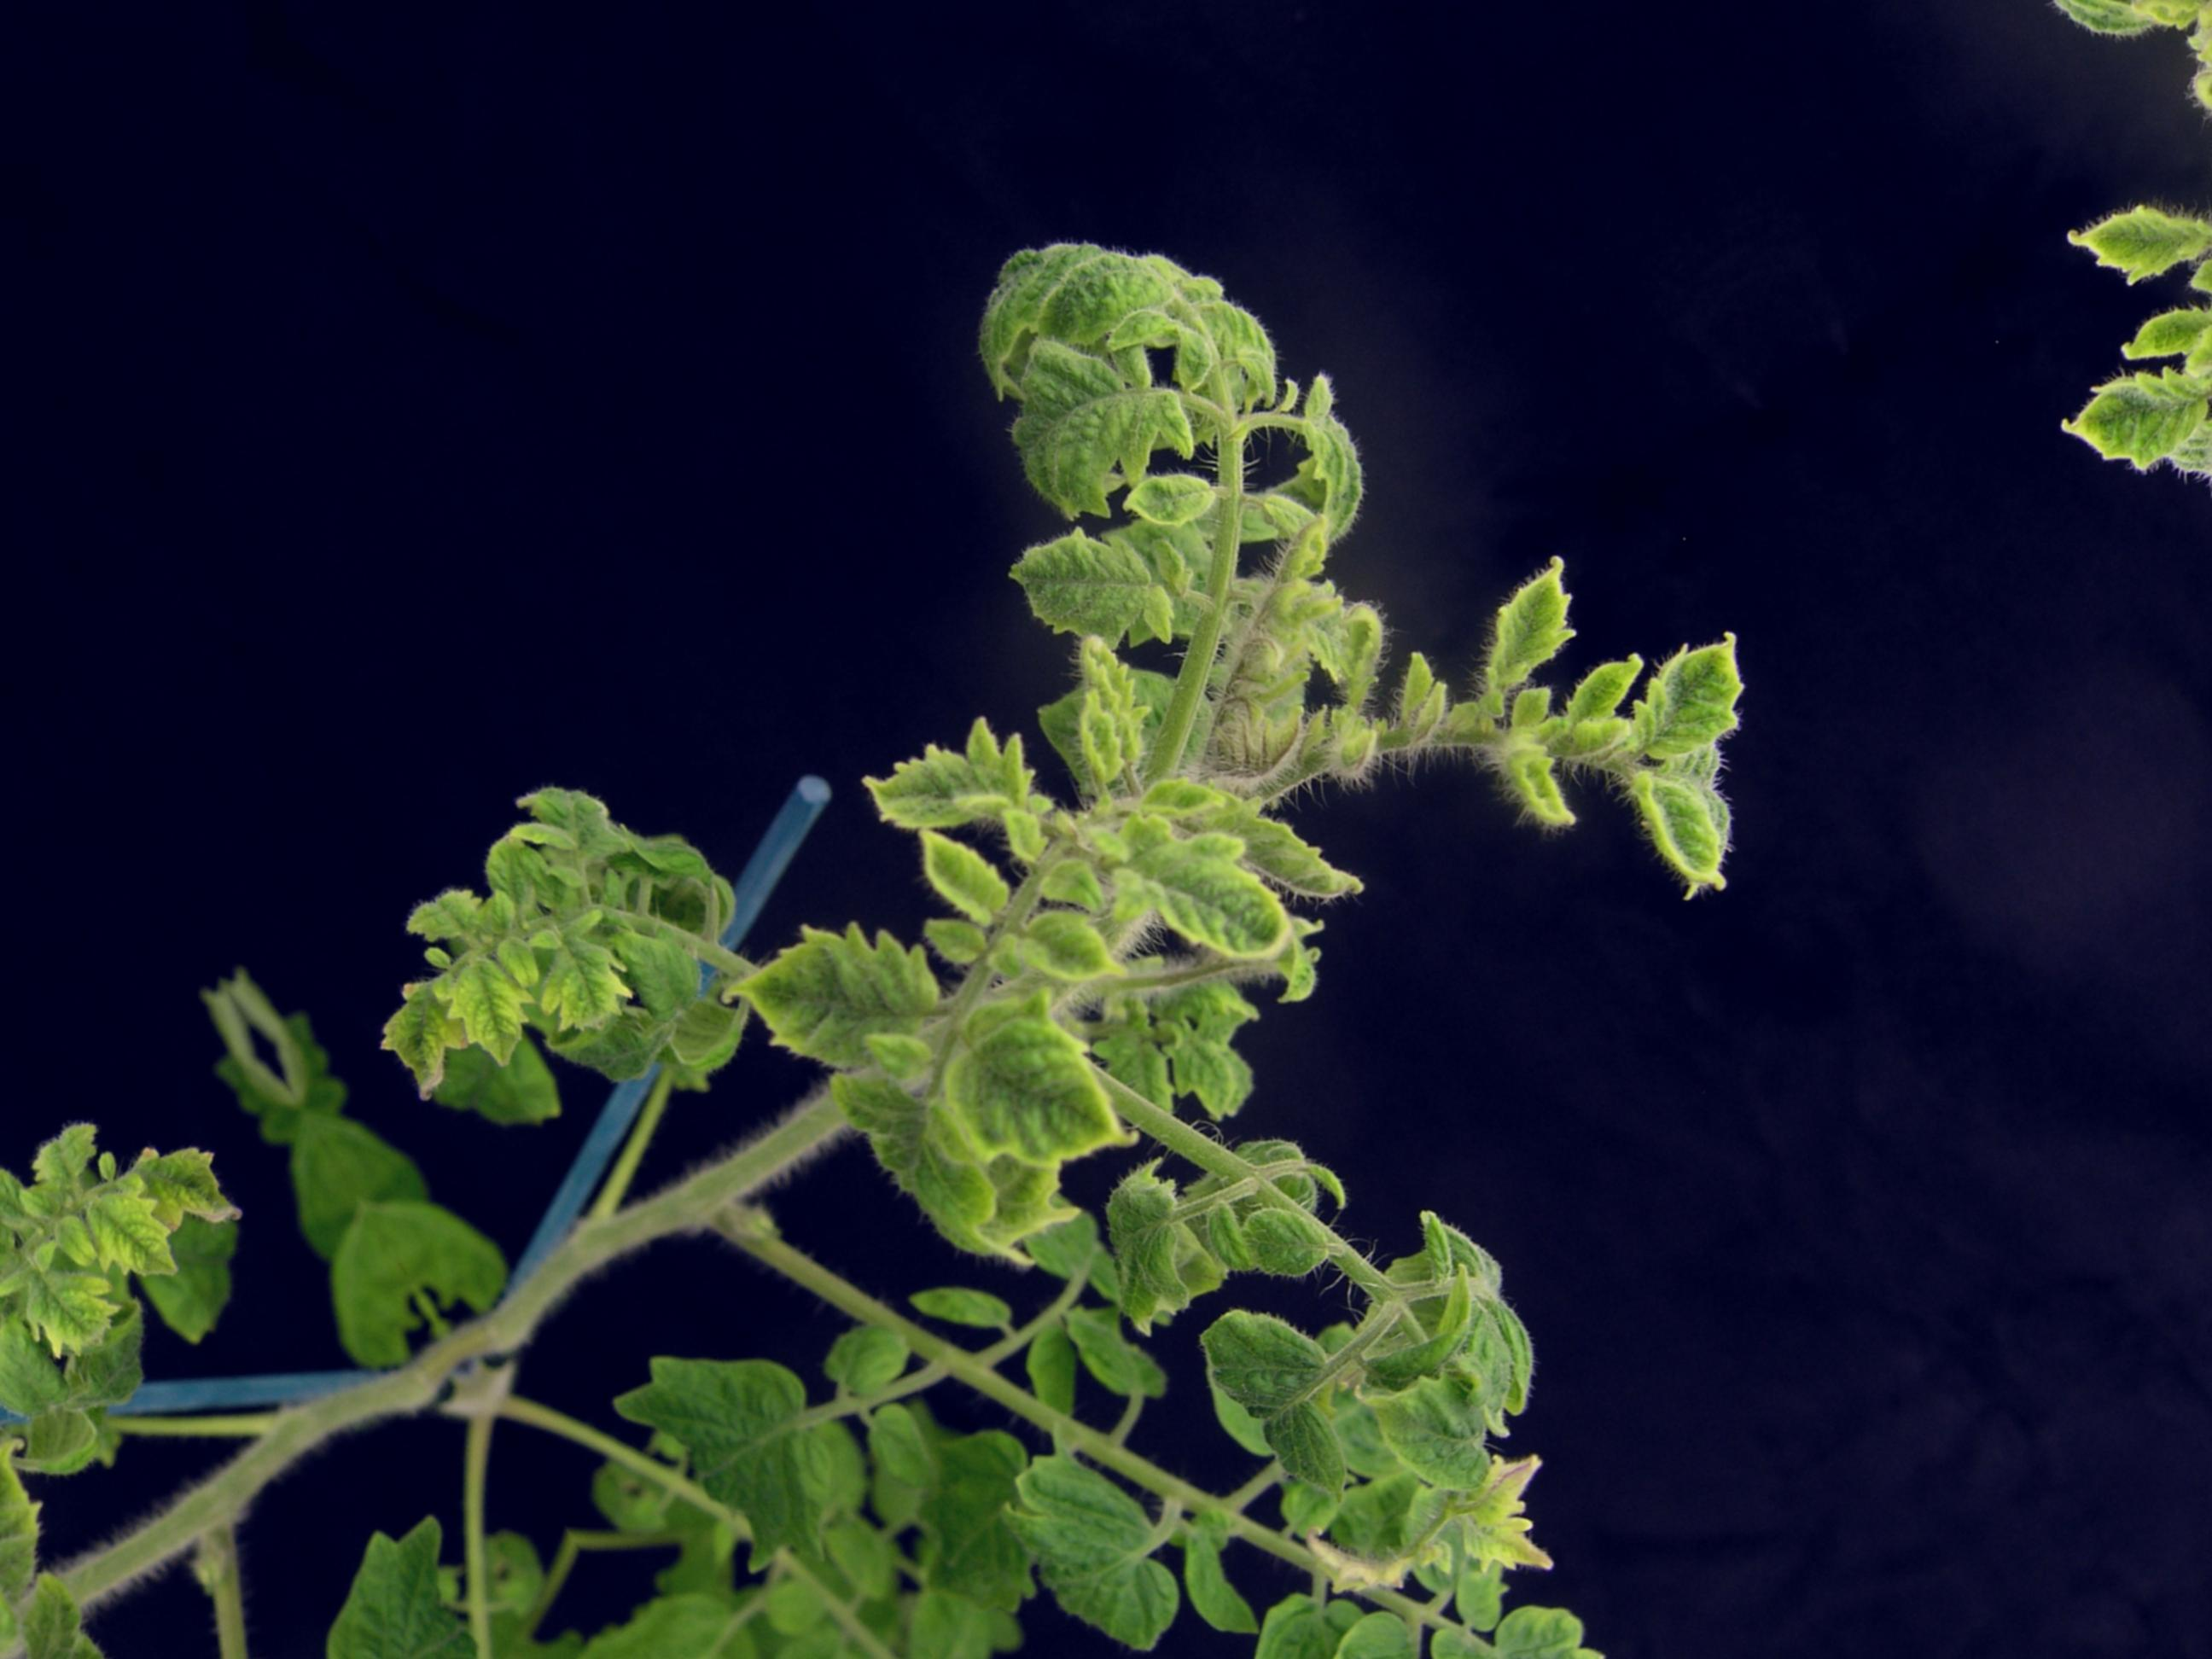Tomato leaf yellow virus: (885, 957, 1179, 1258), (698, 870, 956, 1114), (979, 467, 1200, 692), (1106, 781, 1313, 1006), (1590, 587, 1811, 784), (1005, 338, 1223, 537), (846, 687, 1052, 889), (338, 951, 517, 1127), (1613, 748, 1773, 929), (1406, 1560, 1681, 1659), (512, 884, 664, 1046), (1252, 1572, 1527, 1659), (1176, 268, 1315, 415), (435, 939, 563, 1084)
